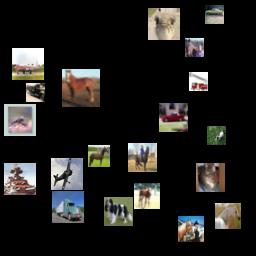airplane: (12, 48, 44, 80), (51, 158, 83, 190)
automobile: (159, 103, 188, 132), (205, 5, 224, 24)
bird: (148, 8, 180, 40), (4, 104, 36, 136)
cat: (196, 163, 225, 192)
dog: (104, 197, 133, 226), (207, 126, 226, 145)
ship: (4, 163, 36, 195)
truck: (52, 191, 84, 223), (26, 83, 45, 102), (189, 72, 208, 91)
